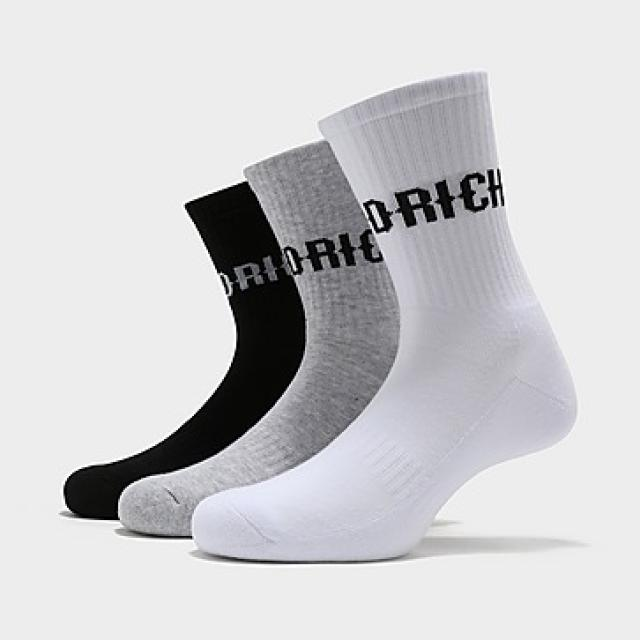sock: (191, 69, 578, 562), (115, 135, 400, 538)
